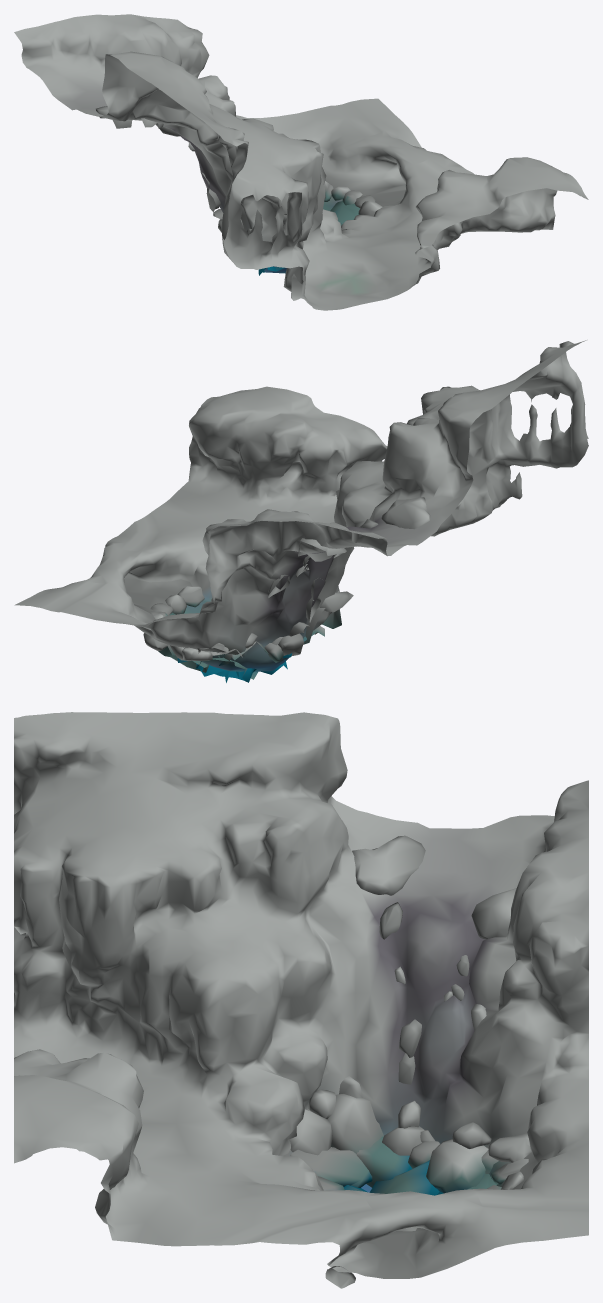
3 renders of one model, top to bottom at view 1: azimuth 30°, elevation 25°; view 2: azimuth 150°, elevation 25°; view 3: azimuth 270°, elevation 25°, orthographic. The views are drawn at different scales.
Parts seen in each view (by area): view 1: G:\FFXIV-MapTools\exports\s1f3\bg\ffxiv\sea_s1\fld\s1f3\bgpl (×17); view 2: G:\FFXIV-MapTools\exports\s1f3\bg\ffxiv\sea_s1\fld\s1f3\bgpl (×21); view 3: G:\FFXIV-MapTools\exports\s1f3\bg\ffxiv\sea_s1\fld\s1f3\bgpl (×21).
Boxes of the visible parts, bbox=[...] form: G:\FFXIV-MapTools\exports\s1f3\bg\ffxiv\sea_s1\fld\s1f3\bgpl (×17): bbox=[14, 14, 588, 310]; G:\FFXIV-MapTools\exports\s1f3\bg\ffxiv\sea_s1\fld\s1f3\bgpl (×21): bbox=[14, 340, 588, 682]; G:\FFXIV-MapTools\exports\s1f3\bg\ffxiv\sea_s1\fld\s1f3\bgpl (×21): bbox=[14, 712, 588, 1288].
Bounding box in the file's own units: 128 × 96.28 × 128.
